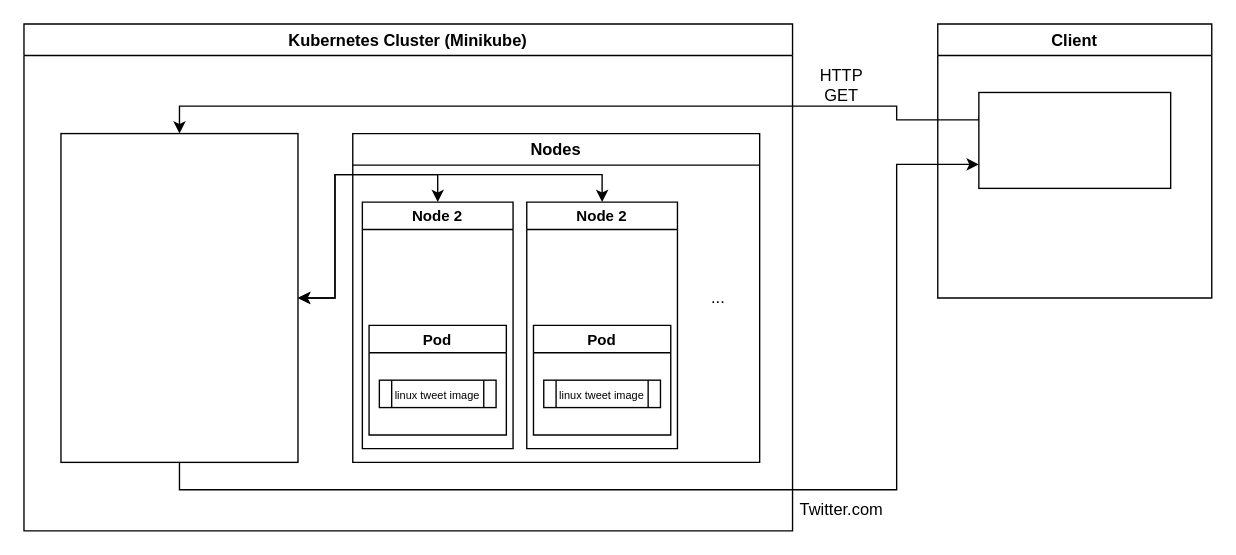
Image size: 1236x555. Some labels were removed from this diagram. Each missing label, with the centre of its shape:
"Control Plane" belongs at point 179,297.
"Web Browser" belongs at point 1074,139.
